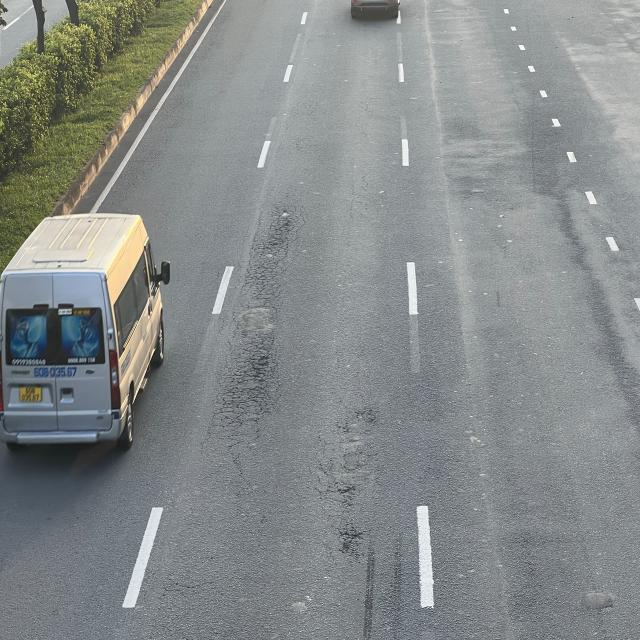van: (0, 217, 166, 459)
